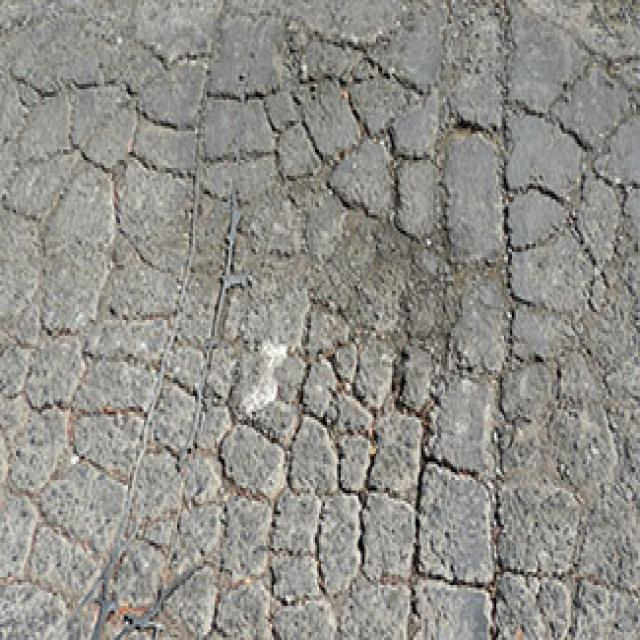Drain Hole: (123, 22, 640, 640)
